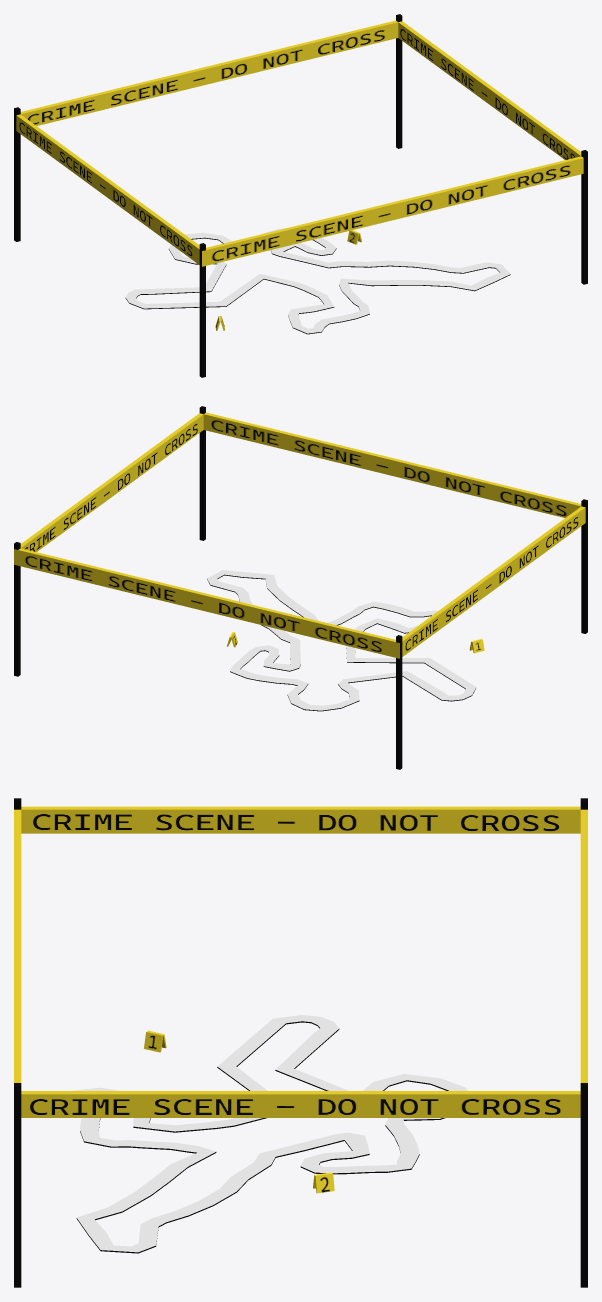
File: nft_ipfs_gltf.gltf
The picture shows the model from 3 angles, top to bottom: view 1: azimuth 30°, elevation 25°; view 2: azimuth 150°, elevation 25°; view 3: azimuth 270°, elevation 25°; orthographic projection. The views are drawn at different scales.
Parts seen in each view (by area): view 1: NFT; view 2: NFT; view 3: NFT.
Boxes of the visible parts, x1,y1,x2,y2 form: NFT: [14, 14, 587, 377]; NFT: [14, 406, 587, 769]; NFT: [14, 798, 587, 1287].
Bounding box in the file's own units: 3.67 × 1.2 × 3.09.
Materials: 1 (1 with a texture image).
